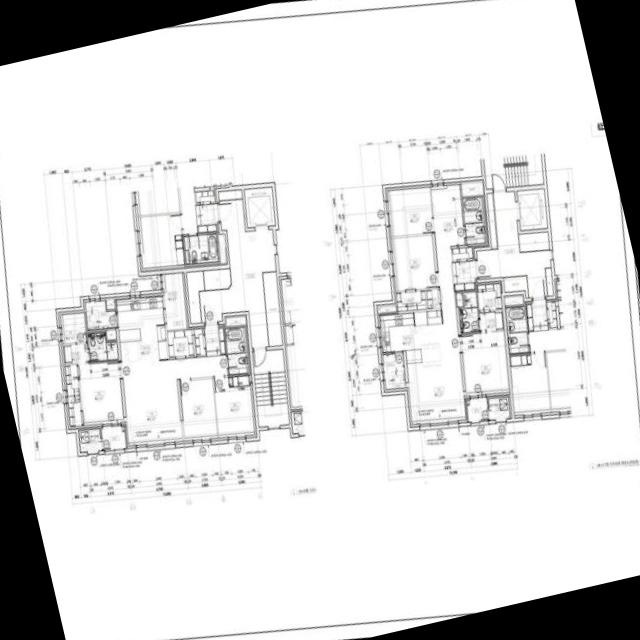background: (0, 0, 640, 640)
space_balconi: (101, 426, 126, 450)
space_bedroom: (78, 361, 123, 425), (214, 372, 255, 437), (179, 376, 217, 440)
space_dressroom: (65, 364, 84, 427), (63, 343, 88, 364)
space_elevator_hall: (199, 187, 275, 348)
space_front: (204, 327, 225, 356)
space_kitchen: (115, 296, 168, 363)
space_living_room: (121, 355, 227, 445)
space_multipurpose_space: (85, 301, 117, 330)
space_other: (161, 272, 187, 330), (262, 271, 282, 346), (186, 271, 204, 323), (60, 312, 87, 344), (167, 329, 194, 357), (203, 268, 231, 290), (194, 328, 206, 355), (218, 189, 242, 200), (226, 317, 245, 326), (106, 329, 116, 340), (106, 299, 115, 309)
space_outdoor_room: (78, 429, 101, 452)
space_staircase: (252, 349, 289, 427)
space_toilet: (225, 326, 249, 375), (87, 331, 118, 362)
